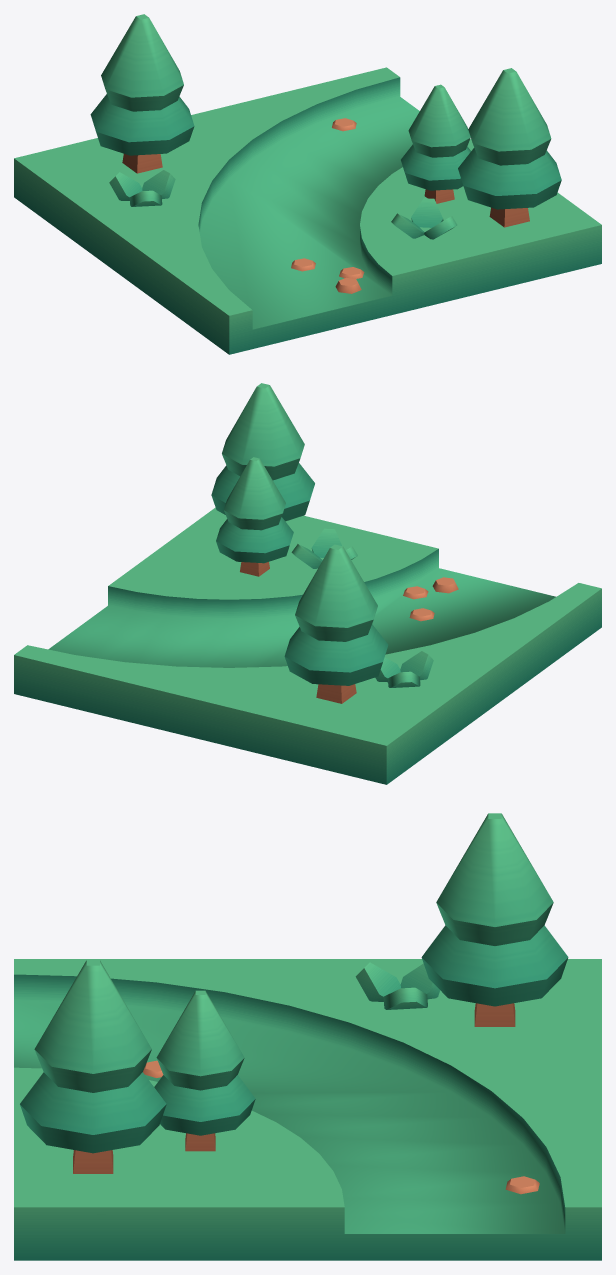
Rendered from tile-corner-large.fbx.
The picture shows the model from 3 angles, top to bottom: view 1: azimuth 30°, elevation 25°; view 2: azimuth 150°, elevation 25°; view 3: azimuth 270°, elevation 25°; orthographic projection. The views are drawn at different scales.
Parts seen in each view (by area): view 1: tile-corner-large; view 2: tile-corner-large; view 3: tile-corner-large.
Boxes of the visible parts, <box> form: tile-corner-large: <box>14,14,601,354</box>; tile-corner-large: <box>14,383,601,784</box>; tile-corner-large: <box>14,813,601,1260</box>.
Bounding box in the file's own units: 200 × 96 × 200.
